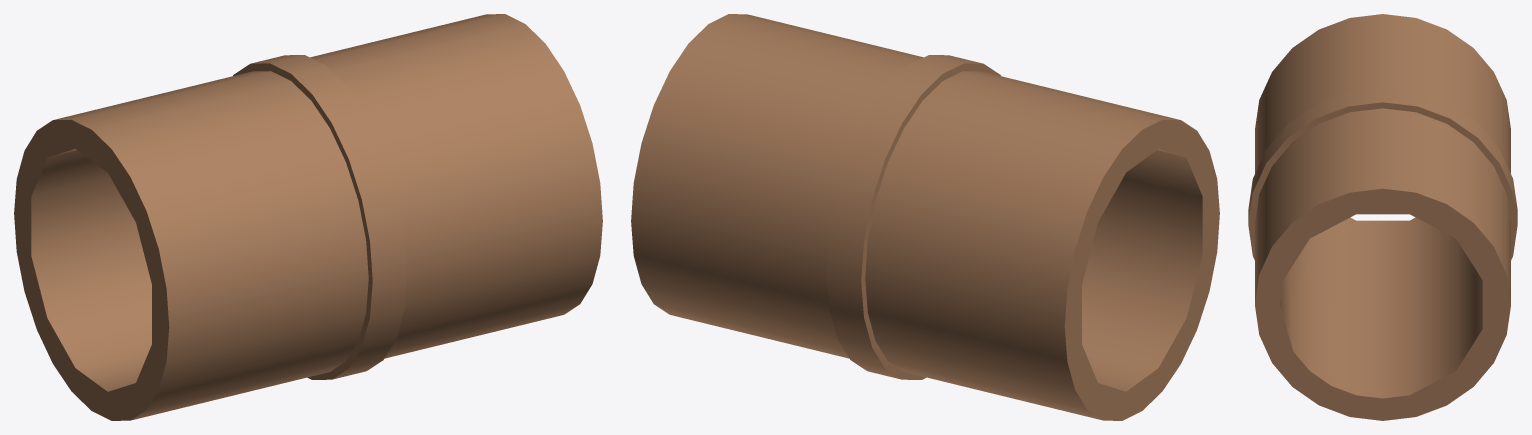
File: HID-CNX-004_lod1.glb
3 renders of one model, left to right at view 1: azimuth 30°, elevation 25°; view 2: azimuth 150°, elevation 25°; view 3: azimuth 270°, elevation 25°, orthographic. The views are drawn at different scales.
Visible parts, largest first — view 1: HID-CNX-004_luva, HID-CNX-004_frisio; view 2: HID-CNX-004_luva, HID-CNX-004_frisio; view 3: HID-CNX-004_luva, HID-CNX-004_frisio.
Part boxes in pixels (bbox=[...]): HID-CNX-004_luva: bbox=[14, 14, 602, 420]; HID-CNX-004_frisio: bbox=[233, 55, 407, 379]; HID-CNX-004_luva: bbox=[631, 14, 1219, 420]; HID-CNX-004_frisio: bbox=[826, 55, 1000, 379]; HID-CNX-004_luva: bbox=[1255, 14, 1510, 420]; HID-CNX-004_frisio: bbox=[1248, 88, 1517, 309].
Bounding box in the file's own units: 0.05 × 0.0326 × 0.0326.
